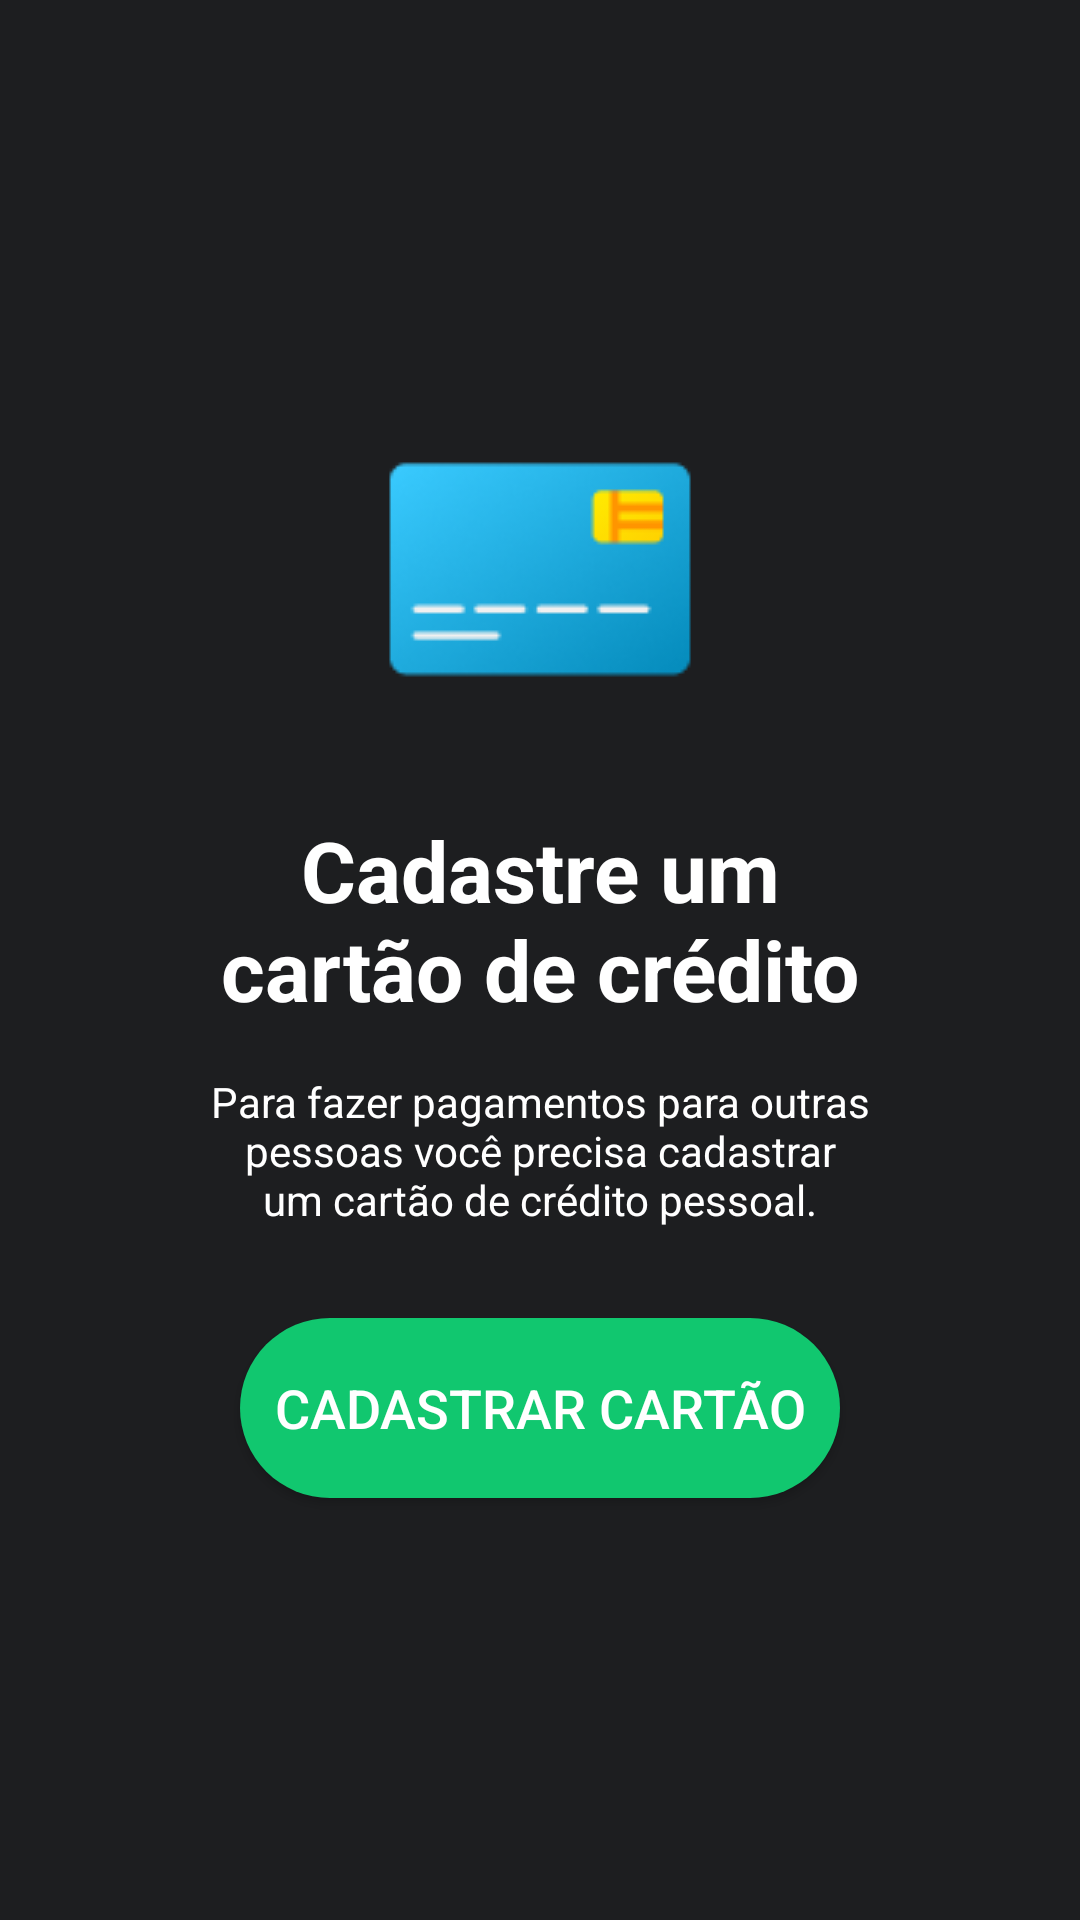

Named icons in this screenshot (1080px x 1920px) and their bounding boxes, detection(x1, y1, x2, y2):
card: detection(389, 462, 691, 677)
